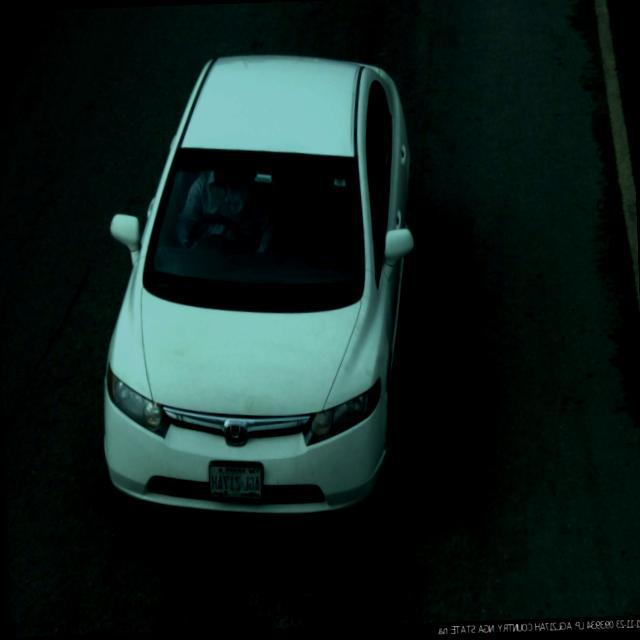windshield: (138, 143, 374, 320)
